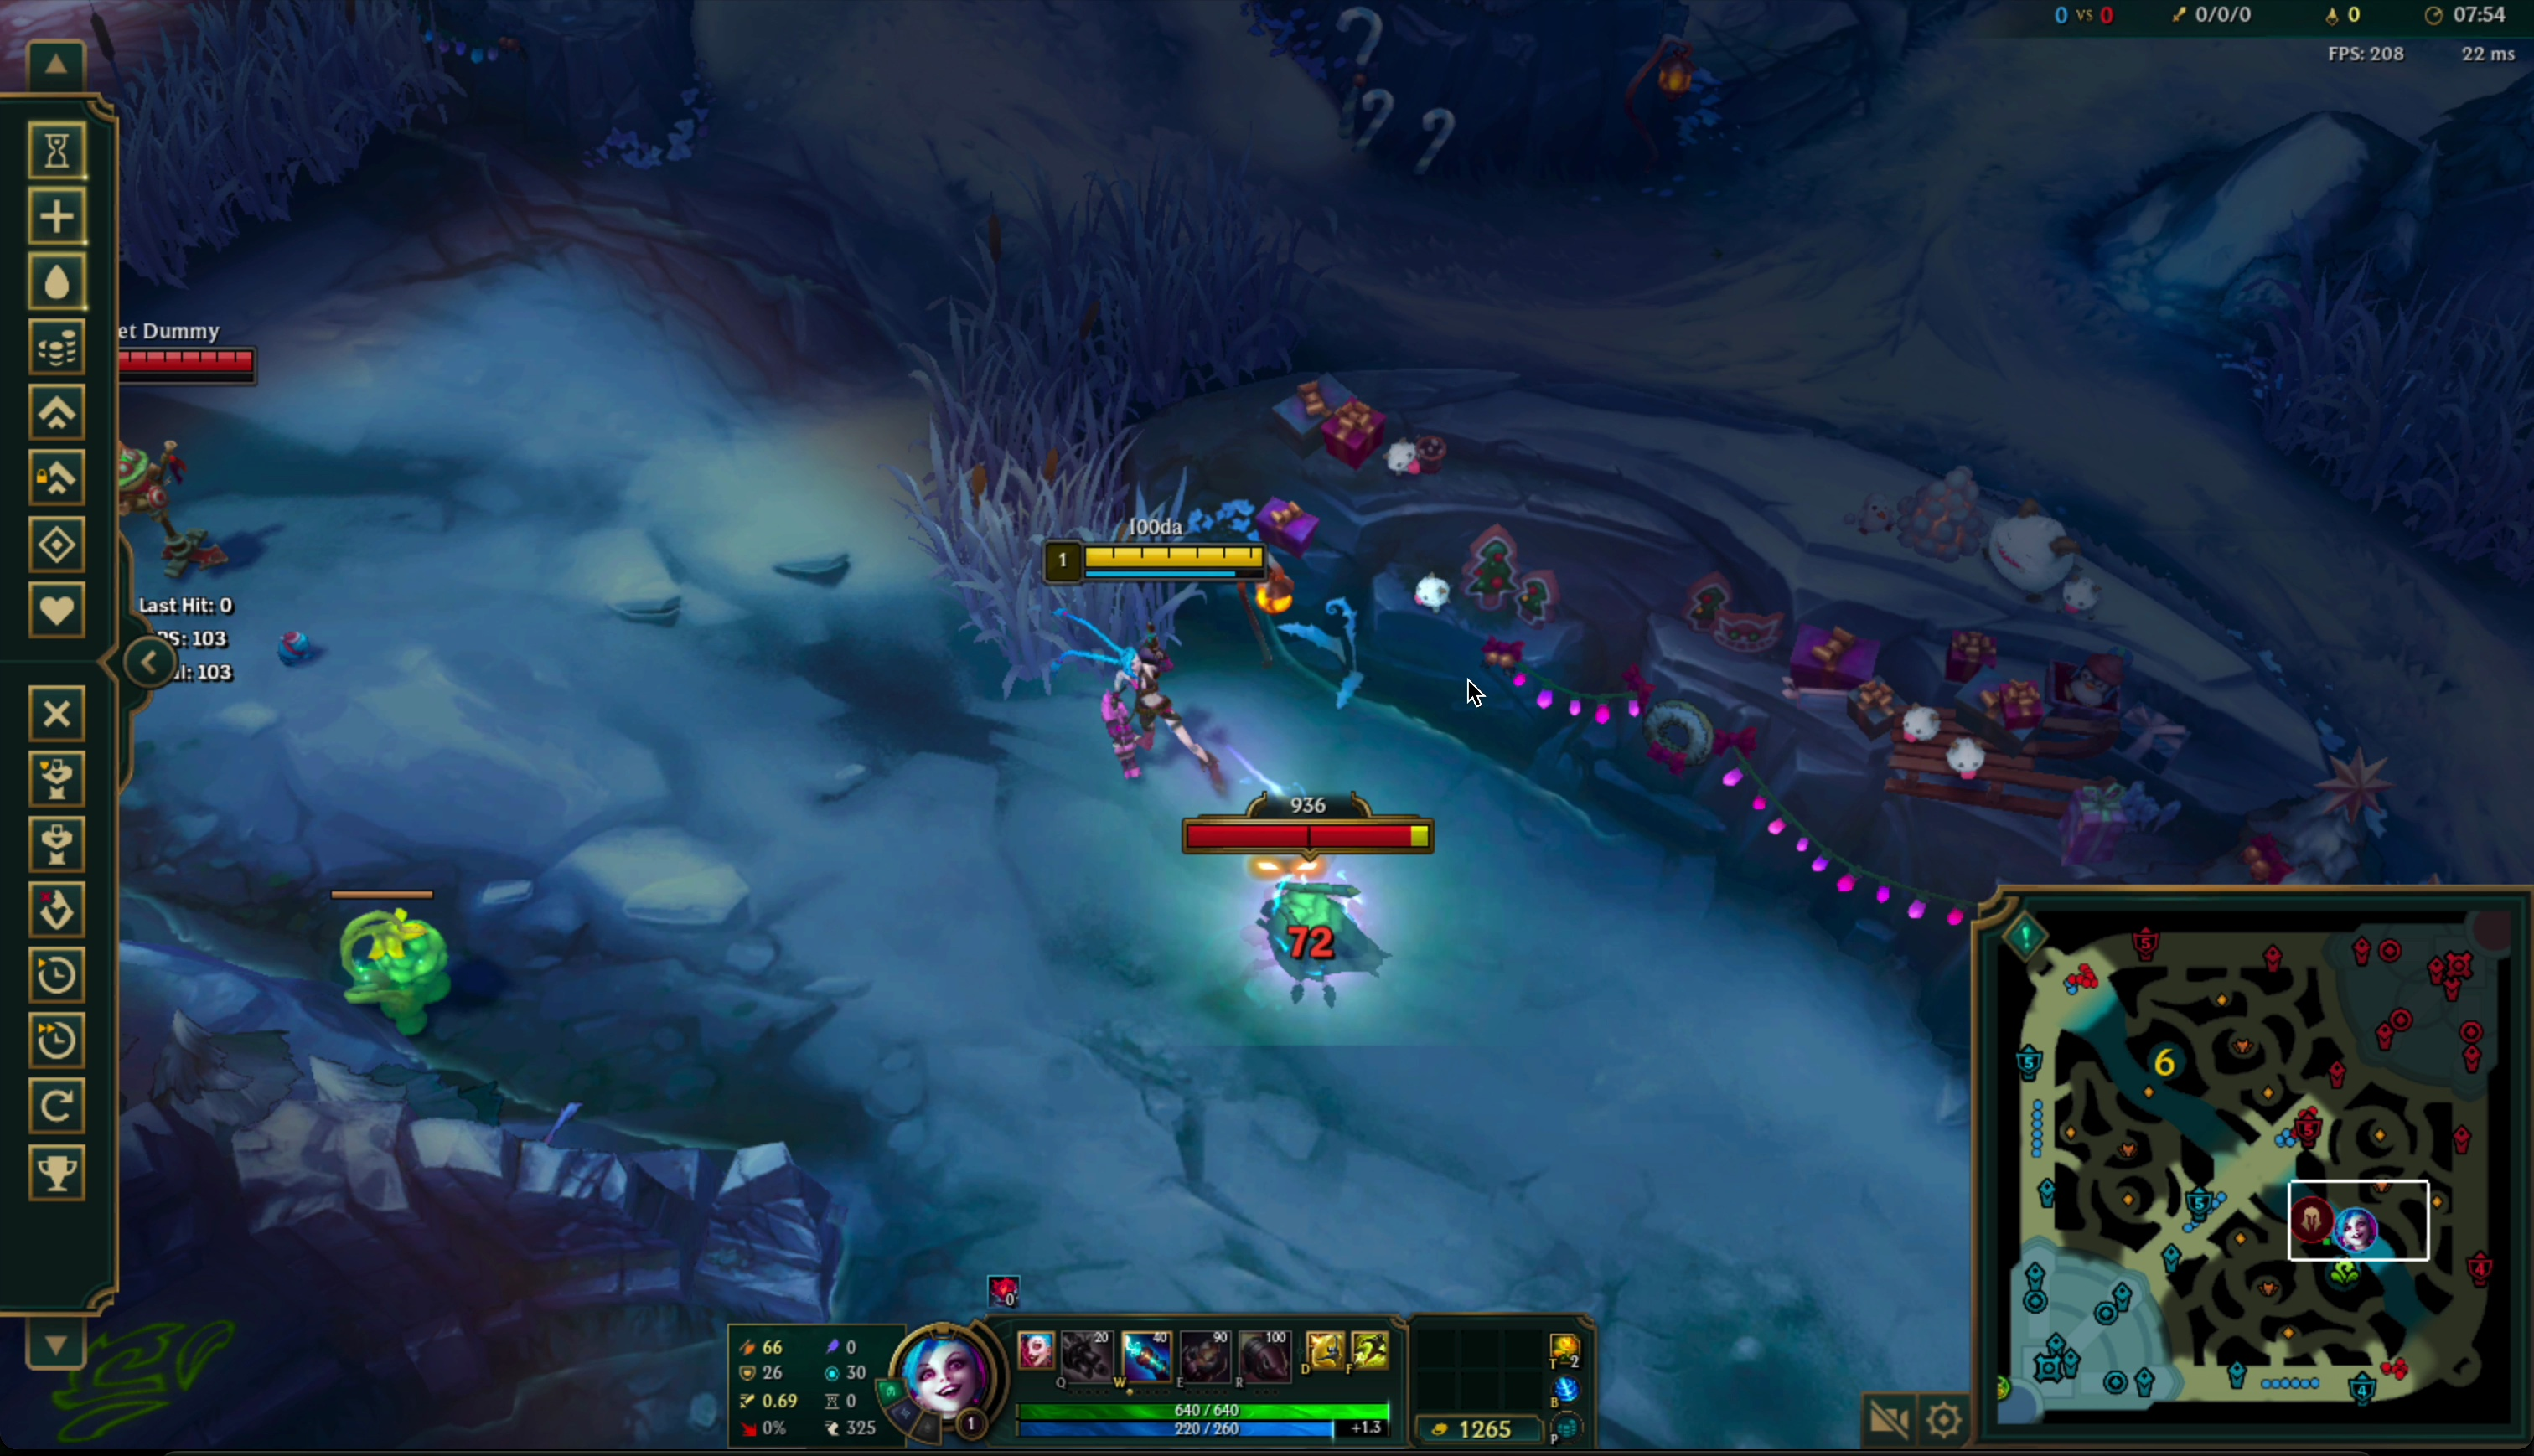JINX_W_IMPACT: (1027, 515, 1519, 1066)
